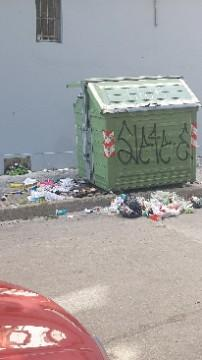Dechets: (0, 170, 91, 210), (103, 194, 202, 220), (118, 195, 140, 217)
Trash: (72, 75, 198, 193)
